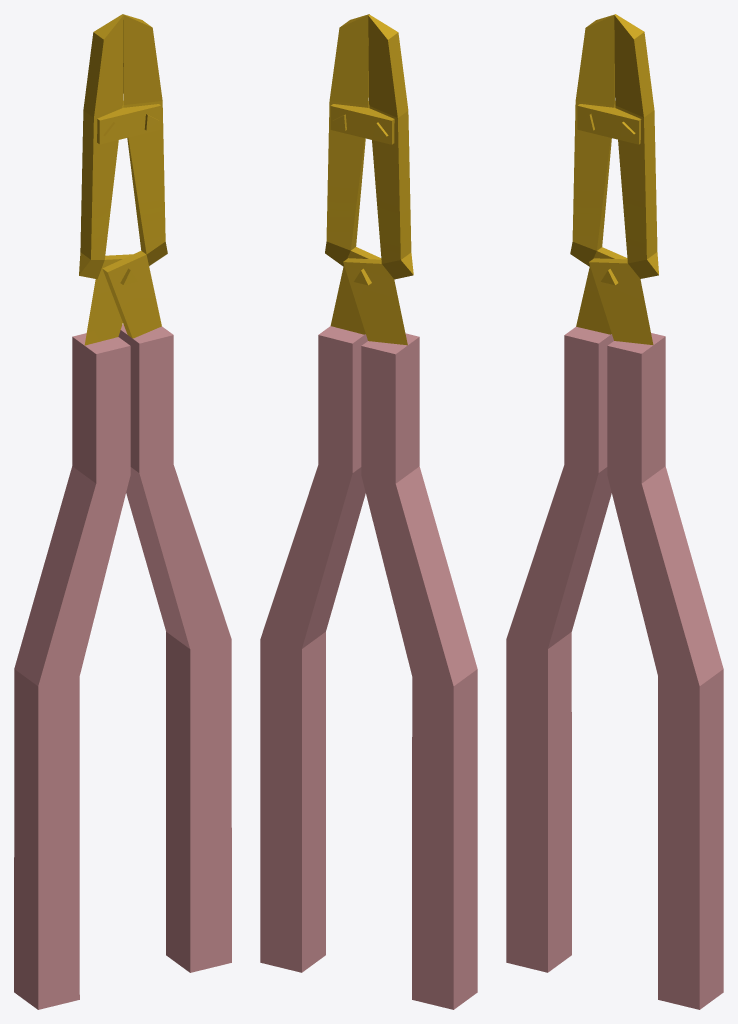
Rendered from cdc9a339-45c8-4a9d-8d94-8c34776bf5f9.glb.
3 renders of one model, left to right at view 1: azimuth 30°, elevation 25°; view 2: azimuth 150°, elevation 25°; view 3: azimuth 330°, elevation 25°, orthographic.
Parts seen in each view (by area): view 1: RoughCutterObj; view 2: RoughCutterObj; view 3: RoughCutterObj.
Boxes of the visible parts, bbox=[...] form: RoughCutterObj: bbox=[14, 14, 231, 1009]; RoughCutterObj: bbox=[260, 14, 477, 1009]; RoughCutterObj: bbox=[506, 14, 723, 1009].
Size of the model in its own units: 0.063 by 0.2995 by 0.0136.
1 material, 1 textured.
